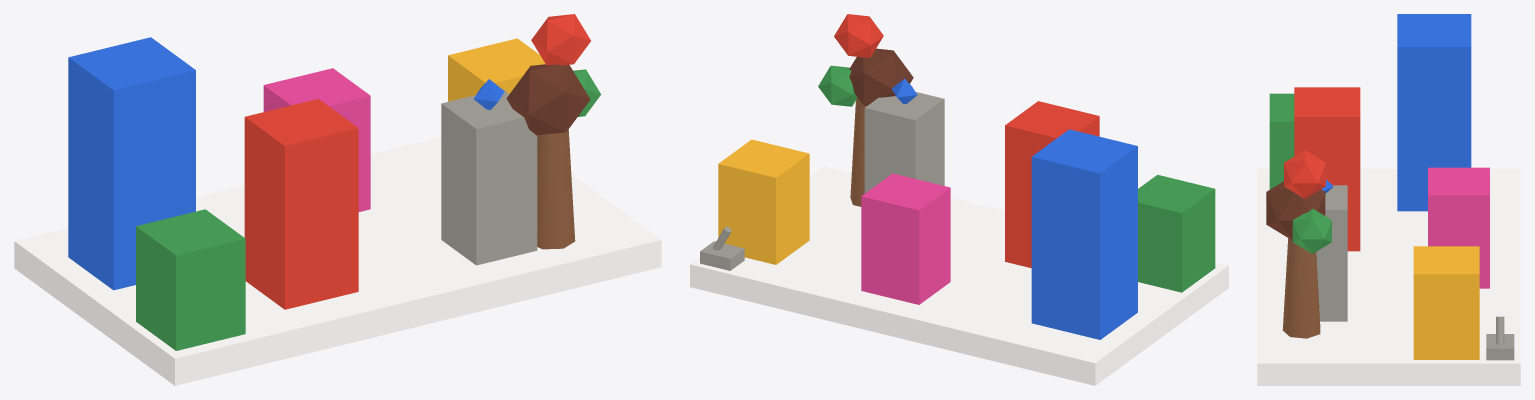
Rendered from shop-alley.glb.
The picture shows the model from 3 angles, left to right: view 1: azimuth 30°, elevation 25°; view 2: azimuth 150°, elevation 25°; view 3: azimuth 270°, elevation 25°; orthographic projection. The views are drawn at different scales.
Size of the model in its own units: 5.6 by 2.71 by 3.2.
